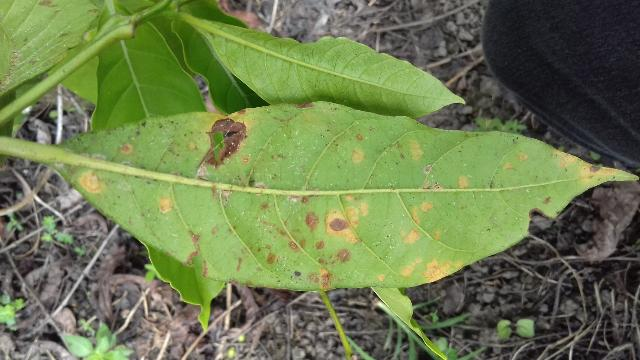rust_level_2: (9, 98, 640, 293)
